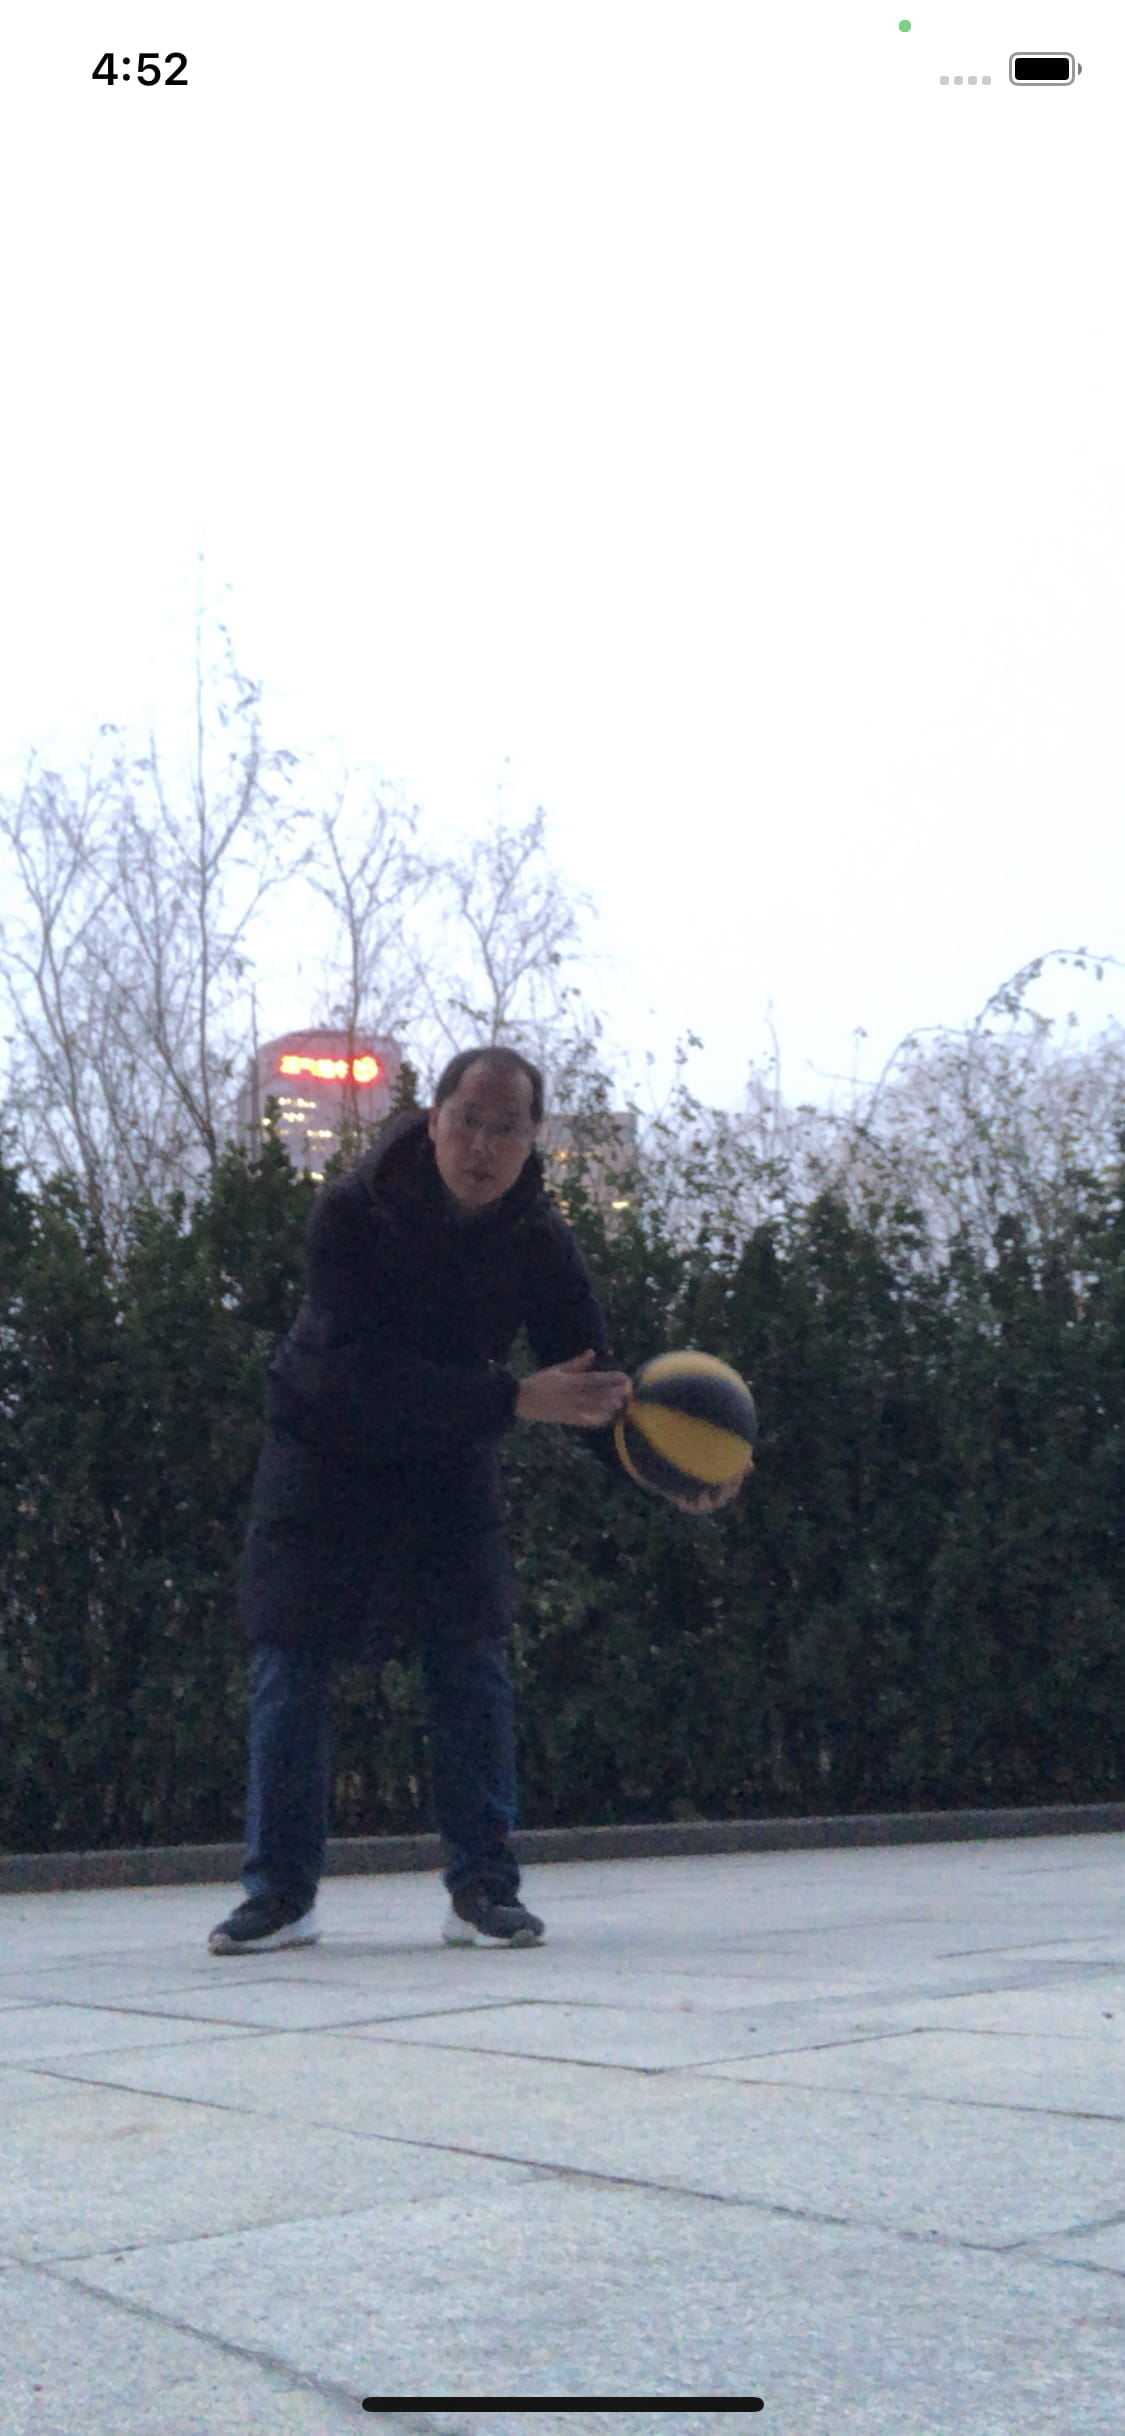ball: (606, 1344, 765, 1512)
